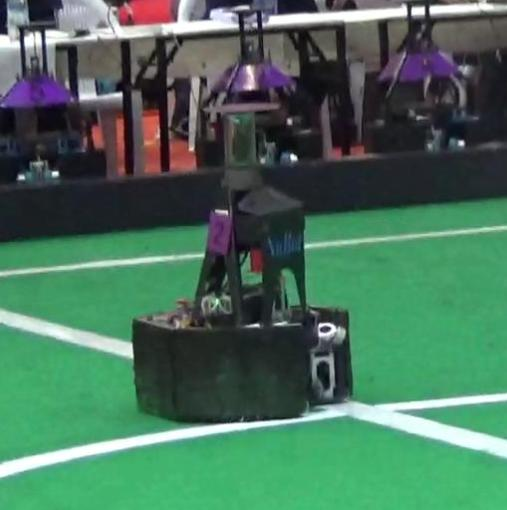robot: (122, 101, 367, 425)
